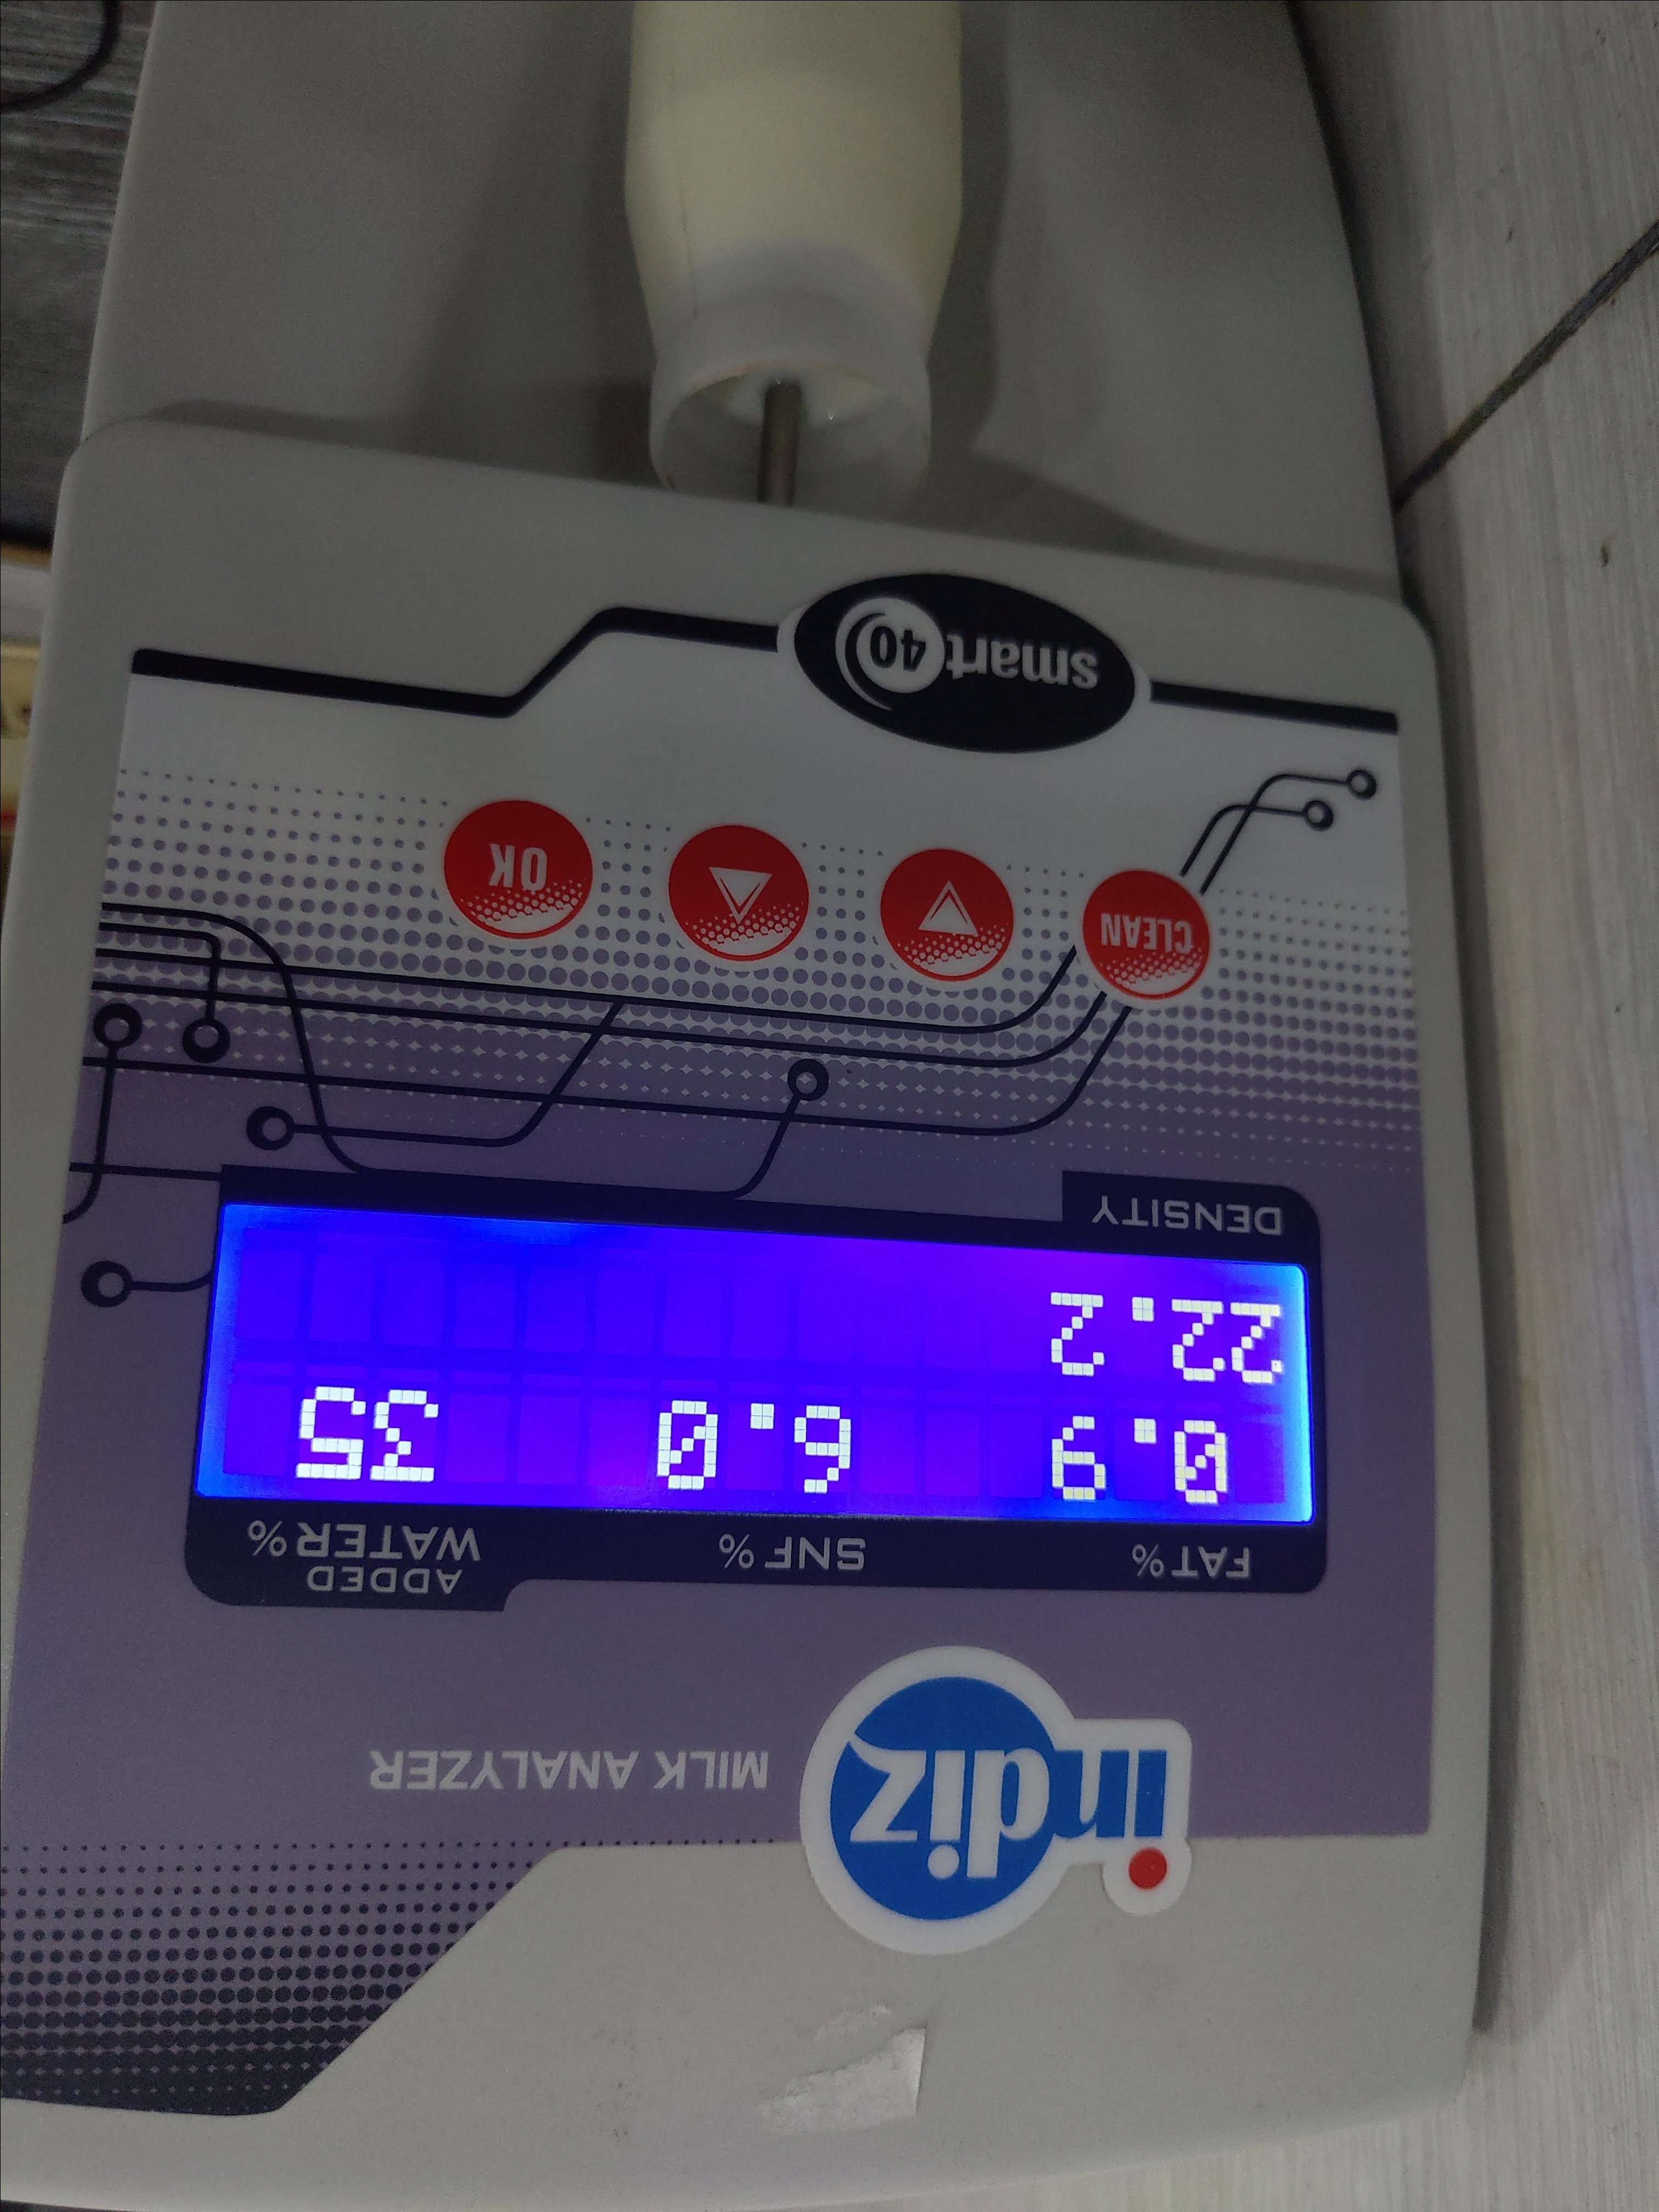lcd: (179, 1167, 1324, 1588)
